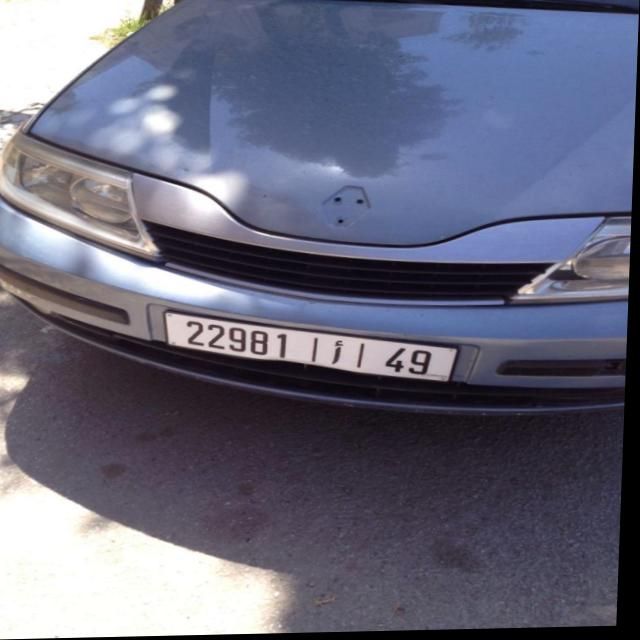License-Plate: (167, 313, 460, 383)
